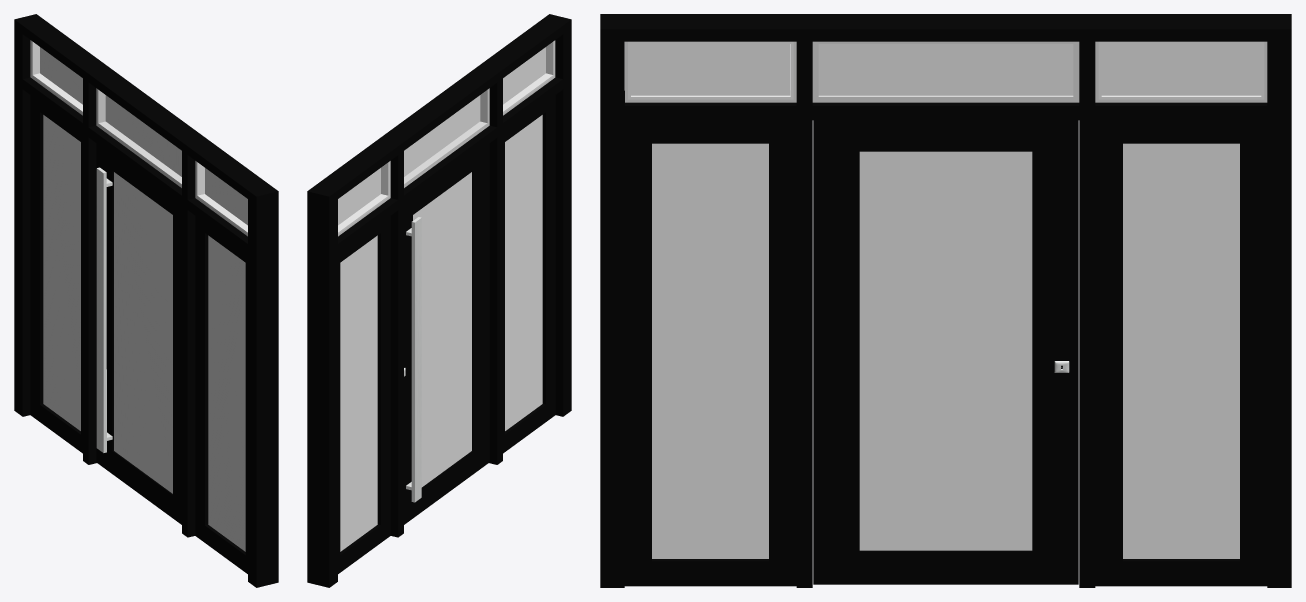
File: SPECIAL _DOOR 4.fbx
3 renders of one model, left to right at view 1: azimuth 30°, elevation 25°; view 2: azimuth 150°, elevation 25°; view 3: azimuth 270°, elevation 25°, orthographic. The views are drawn at different scales.
Visible parts, largest first — view 1: polySurface1.007, polySurface2.006, polySurface3.003, polySurface4.001, pCube1, polySurface10.002, polySurface11.005, polySurface12.003, polySurface8.004, polySurface9.001, polySurface13.001; view 2: polySurface1.007, polySurface2.006, polySurface4.001, polySurface3.003, pCube1, polySurface10.002, polySurface11.005, polySurface8.004, polySurface12.003, polySurface13.001, polySurface9.001; view 3: polySurface2.006, polySurface3.003, polySurface4.001, polySurface1.007, polySurface10.002, polySurface8.004, polySurface12.003, polySurface11.005, polySurface9.001, polySurface13.001.
Boxes of the visible parts, x1,y1,x2,y2 form: polySurface1.007: (14, 14, 278, 587); polySurface2.006: (96, 143, 181, 524); polySurface3.003: (30, 95, 82, 453); polySurface4.001: (195, 216, 247, 573); pCube1: (96, 167, 112, 452); polySurface10.002: (105, 95, 181, 176); polySurface11.005: (96, 88, 181, 187); polySurface12.003: (205, 168, 247, 225); polySurface8.004: (40, 47, 82, 104); polySurface9.001: (30, 40, 82, 115); polySurface13.001: (195, 161, 247, 236); polySurface1.007: (307, 14, 571, 587); polySurface2.006: (404, 143, 489, 524); polySurface4.001: (503, 95, 555, 453); polySurface3.003: (338, 216, 390, 573); pCube1: (406, 217, 421, 502); polySurface10.002: (404, 95, 480, 176); polySurface11.005: (404, 88, 489, 187); polySurface8.004: (338, 168, 380, 225); polySurface12.003: (503, 47, 545, 104); polySurface13.001: (503, 40, 555, 115); polySurface9.001: (338, 161, 390, 236); polySurface2.006: (813, 120, 1078, 584); polySurface3.003: (1095, 120, 1267, 586); polySurface4.001: (624, 120, 796, 586); polySurface1.007: (600, 14, 1291, 587); polySurface10.002: (818, 44, 1073, 95); polySurface8.004: (1101, 44, 1261, 95); polySurface12.003: (631, 44, 790, 95); polySurface11.005: (812, 41, 1079, 102); polySurface9.001: (1095, 41, 1267, 102); polySurface13.001: (625, 41, 796, 102).
Bounding box in the file's own units: 17.3 × 273 × 306.
